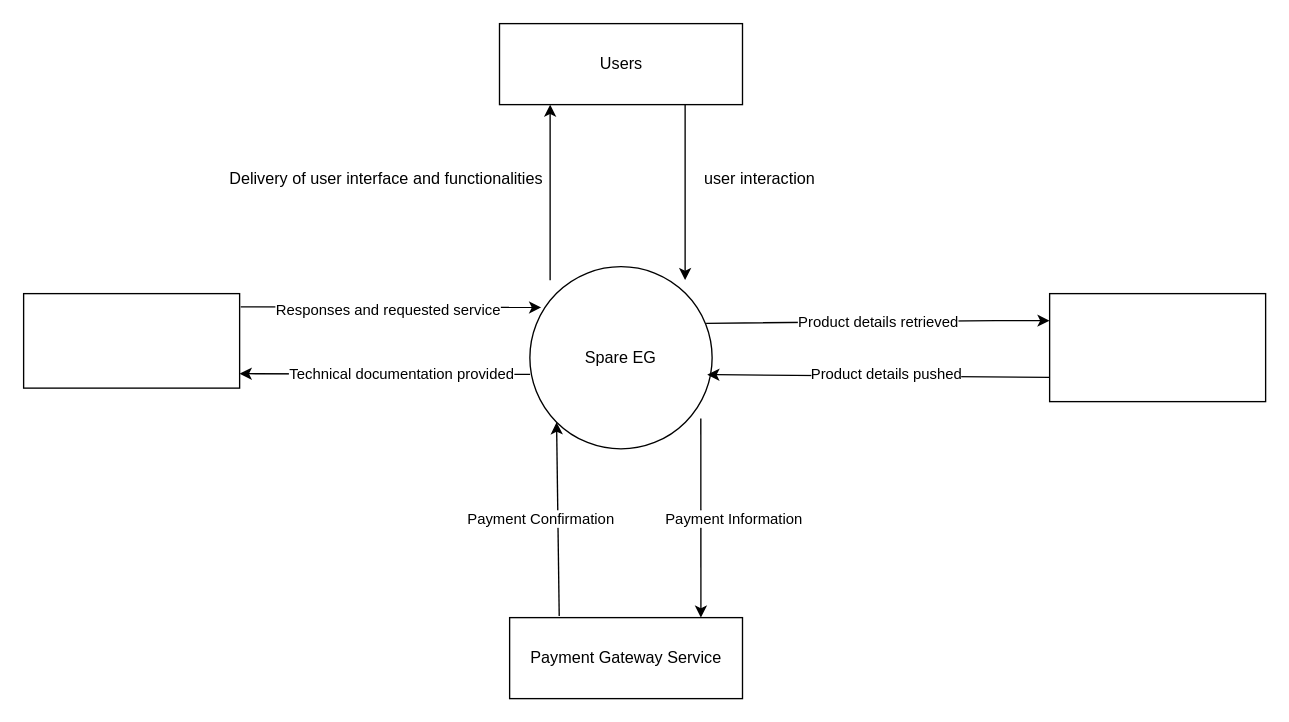
Image size: 1289x722. Some labels were removed from this diagram. The shapes that lost their labels are listed below. From the top down, each one's centre as x and y in pixels, then its label:
At (131,340): "Technical Documentation Service".
At (1157,347): "Product Information & Database".
